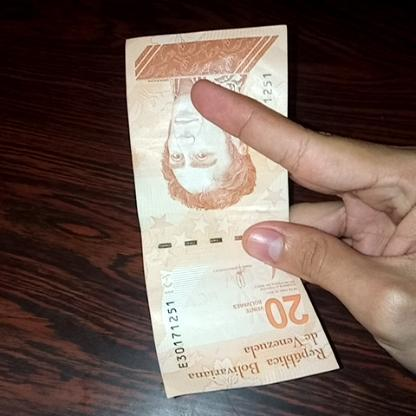twenty-front-vef: (123, 26, 348, 399)
